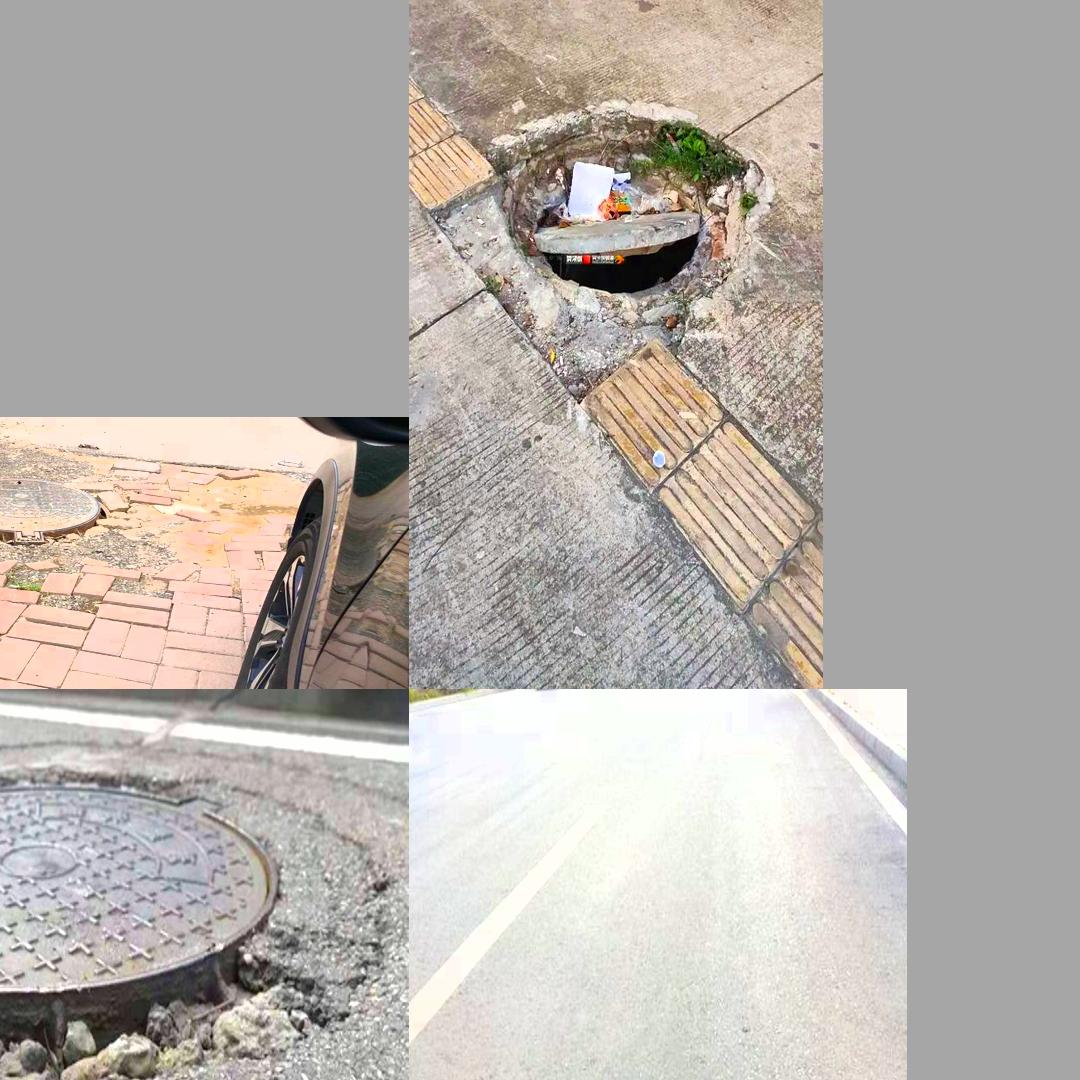circle: (0, 742, 388, 1080), (447, 92, 786, 382), (0, 459, 166, 567)
